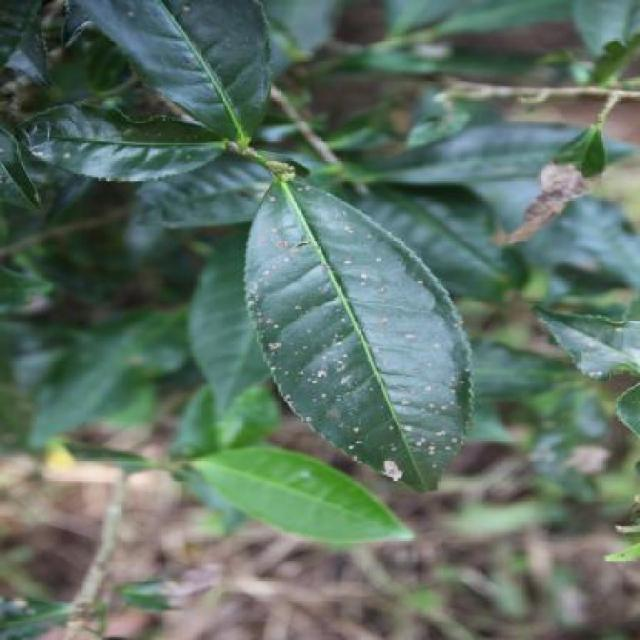Leaf rust of tea: (252, 174, 531, 491)
